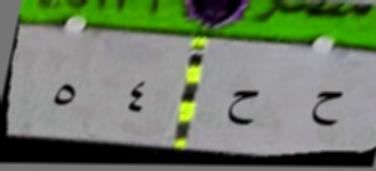4: (121, 74, 150, 119)
5: (46, 77, 82, 115)
7aa: (302, 81, 344, 130), (222, 82, 263, 131)
